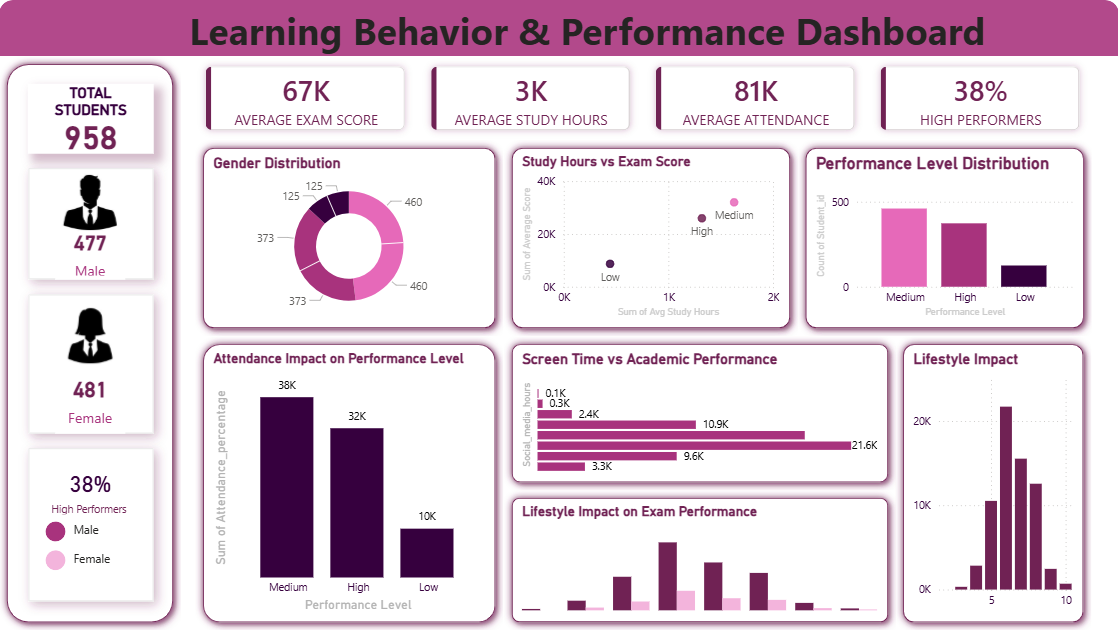

This screenshot's page, from the dashboard's own definition file:
{"tool":"powerbi","page":{"name":"Page 1","canvas":[1280,720],"ordinal":0},"visuals":[{"type":"cardVisual","fields":{"Data":["Sum(student_habits_performance 1.Average Score)","Sum(student_habits_performance 1.Avg Study Hours)","Sum(student_habits_performance 1.Attendance_percentage)","student_habits_performance 1.High Performers %"]},"box":[208.6,48,1056,128],"z":0},{"type":"shape","box":[0.6,0,1280,64],"z":1000},{"type":"textbox","box":[128.6,0,1088,96],"z":2000},{"type":"shape","box":[576.6,560,448,160],"z":3000},{"type":"shape","box":[576.6,160,336,224],"z":4000},{"type":"shape","box":[224.6,160,352,224],"z":5000},{"type":"scatterChart","title":"Study Hours vs Exam Score","fields":{"X":["Sum(student_habits_performance 1.Avg Study Hours)"],"Y":["Sum(student_habits_performance 1.Average Score)"],"Series":["student_habits_performance 1.Performance Level"]},"box":[592.6,176,304,192],"z":6000},{"type":"shape","box":[224.6,384,352,336],"z":7000},{"type":"shape","box":[912.6,160,336,224],"z":8000},{"type":"clusteredColumnChart","title":"Attendance Impact on Performance Level","fields":{"Category":["student_habits_performance 1.Performance Level"],"Y":["Sum(student_habits_performance 1.Attendance_percentage)"]},"box":[240.6,400,320,304],"z":9000},{"type":"shape","box":[0.6,64,208,656],"z":10000},{"type":"card","title":"TOTAL STUDENTS","fields":{"Values":["student_habits_performance 1.Total Students"]},"box":[32.6,96,144,80],"z":11000},{"type":"shape","box":[16.6,176,176,160],"z":12000},{"type":"card","fields":{"Values":["student_habits_performance 1.Male"]},"box":[64.6,256,80,64],"z":13000},{"type":"shape","box":[16.6,320,176,192],"z":14000},{"type":"card","fields":{"Values":["student_habits_performance 1.Female"]},"box":[64,416,80,80],"z":15000},{"type":"actionButton","box":[64.6,192,80,80],"z":16000},{"type":"actionButton","box":[64.6,336,80,96],"z":17000},{"type":"donutChart","title":"Gender Distribution","fields":{"Y":["CountNonNull(student_habits_performance 1.Student_id)","CountNonNull(student_habits_performance 1.Gender)"],"Category":["student_habits_performance 1.Performance Level"]},"box":[240.6,176,320,192],"z":18000},{"type":"shape","box":[1024.6,384,224,336],"z":19000},{"type":"columnChart","title":"Lifestyle Impact","fields":{"Category":["student_habits_performance 1.Sleep_hours"],"Y":["Sum(student_habits_performance 1.Exam_score)"]},"box":[1040.6,400,192,304],"z":20000},{"type":"columnChart","title":" Performance Level Distribution","fields":{"Category":["student_habits_performance 1.Performance Level"],"Y":["CountNonNull(student_habits_performance 1.Student_id)"]},"box":[928.6,176,304,192],"z":21000},{"type":"shape","box":[576.6,384,448,176],"z":22000},{"type":"clusteredBarChart","title":"Screen Time vs Academic Performance","fields":{"Y":["Sum(student_habits_performance 1.Average Score)"],"Category":["student_habits_performance 1.Social_media_hours"]},"box":[592.6,400,416,144],"z":23000},{"type":"shape","box":[16.6,496,176,208],"z":25000},{"type":"card","fields":{"Values":["student_habits_performance 1.High Performers %"]},"box":[48.6,528,112,64],"z":26000},{"type":"shape","box":[48.6,624,32,32],"z":27000},{"type":"shape","box":[48.6,592,32,32],"z":28000},{"type":"textbox","box":[80.6,592,80,32],"z":29000},{"type":"textbox","box":[80.6,624,80,32],"z":30000},{"type":"clusteredColumnChart","title":"Lifestyle Impact on Exam Performance","fields":{"Category":["student_habits_performance 1.Sleep_hours"],"Y":["Sum(student_habits_performance 1.Average Score)"],"Series":["student_habits_performance 1.Part_time_job"]},"box":[592.6,576,416,128],"z":31000}]}

Visuals, with their boxes in screenshot pixels (x1, y1, x2, y2), scaled from the page's 1280x720 canvas onto the 1118x630 screenshot:
cardVisual - Sum(student_habits_performance 1.Average Score) x Sum(student_habits_performance 1.Avg Study Hours): rect(182, 42, 1105, 154)
shape: rect(1, 0, 1117, 56)
textbox: rect(112, 0, 1063, 84)
shape: rect(504, 490, 895, 629)
shape: rect(504, 140, 797, 336)
shape: rect(196, 140, 504, 336)
"Study Hours vs Exam Score" scatterChart: rect(518, 154, 783, 322)
shape: rect(196, 336, 504, 629)
shape: rect(797, 140, 1091, 336)
"Attendance Impact on Performance Level" clusteredColumnChart: rect(210, 350, 490, 616)
shape: rect(1, 56, 182, 629)
"TOTAL STUDENTS" card: rect(28, 84, 154, 154)
shape: rect(14, 154, 168, 294)
card - student_habits_performance 1.Male: rect(56, 224, 126, 280)
shape: rect(14, 280, 168, 448)
card - student_habits_performance 1.Female: rect(56, 364, 126, 434)
actionButton: rect(56, 168, 126, 238)
actionButton: rect(56, 294, 126, 378)
"Gender Distribution" donutChart: rect(210, 154, 490, 322)
shape: rect(895, 336, 1091, 629)
"Lifestyle Impact" columnChart: rect(909, 350, 1077, 616)
" Performance Level Distribution" columnChart: rect(811, 154, 1077, 322)
shape: rect(504, 336, 895, 490)
"Screen Time vs Academic Performance" clusteredBarChart: rect(518, 350, 881, 476)
shape: rect(14, 434, 168, 616)
card - student_habits_performance 1.High Performers %: rect(42, 462, 140, 518)
shape: rect(42, 546, 70, 574)
shape: rect(42, 518, 70, 546)
textbox: rect(70, 518, 140, 546)
textbox: rect(70, 546, 140, 574)
"Lifestyle Impact on Exam Performance" clusteredColumnChart: rect(518, 504, 881, 616)
